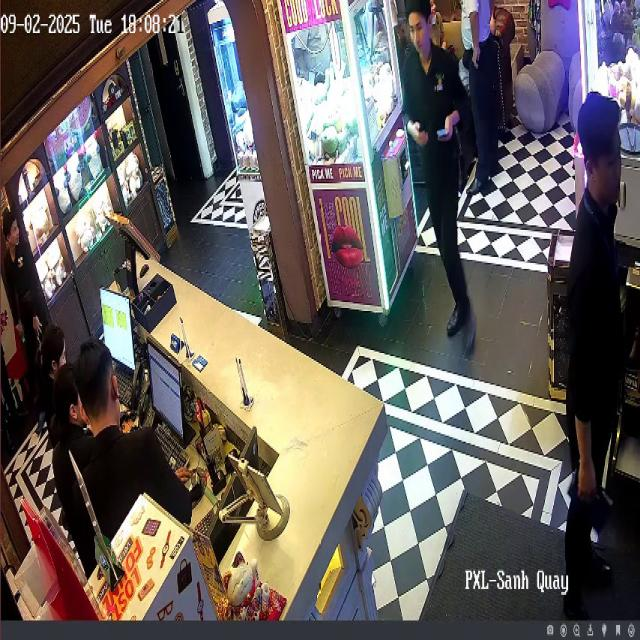khach: (460, 0, 509, 187)
nhan vien: (562, 81, 640, 604), (391, 1, 486, 367), (69, 332, 187, 575), (1, 207, 52, 448), (46, 357, 91, 552), (35, 310, 59, 487)
